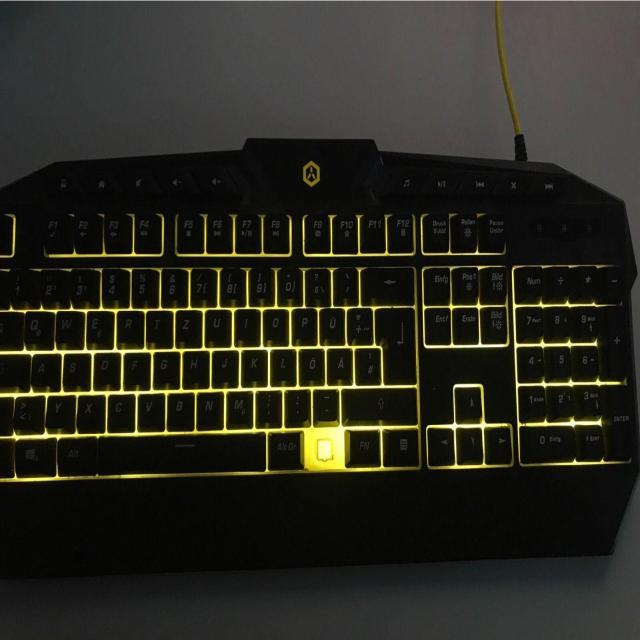0: (275, 264, 302, 303)
1: (8, 267, 40, 308)
2: (39, 267, 69, 307)
3: (68, 266, 99, 306)
4: (100, 265, 129, 304)
5: (130, 265, 159, 306)
6: (159, 265, 188, 306)
7: (188, 265, 216, 304)
8: (217, 264, 246, 305)
9: (246, 264, 274, 304)
a: (29, 350, 60, 389)
accent: (331, 264, 357, 303)
ae: (325, 344, 352, 383)
alt-left: (55, 433, 96, 475)
altgr-right: (266, 427, 303, 469)
b: (164, 388, 194, 429)
c: (105, 390, 135, 432)
comma: (254, 385, 281, 425)
d: (91, 348, 120, 388)
del: (359, 263, 414, 303)
e: (84, 307, 113, 347)
enter: (373, 303, 416, 383)
f: (121, 348, 149, 388)
g: (151, 347, 179, 387)
h: (180, 347, 208, 387)
hash: (353, 344, 381, 383)
i: (233, 305, 260, 343)
j: (210, 346, 238, 386)
k: (239, 345, 267, 384)
keyboard: (2, 149, 637, 509)
l: (269, 344, 296, 383)
less: (12, 392, 45, 434)
m: (224, 386, 253, 427)
minus: (311, 385, 338, 420)
n: (194, 388, 223, 428)
o: (261, 305, 288, 342)
oe: (297, 344, 324, 383)
p: (291, 304, 316, 341)
plus: (345, 304, 372, 343)
point: (283, 385, 309, 423)
q: (22, 307, 54, 347)
r: (114, 306, 143, 346)
s: (60, 349, 90, 389)
shift-lock: (0, 350, 30, 389)
shift-right: (340, 384, 416, 422)
space: (95, 430, 266, 473)
ss: (303, 264, 330, 304)
t: (144, 306, 172, 345)
u: (202, 305, 231, 345)
ue: (318, 304, 344, 343)
v: (135, 389, 164, 430)
w: (54, 307, 83, 347)
x: (75, 390, 105, 432)
y: (43, 391, 75, 430)
z: (173, 306, 201, 346)
